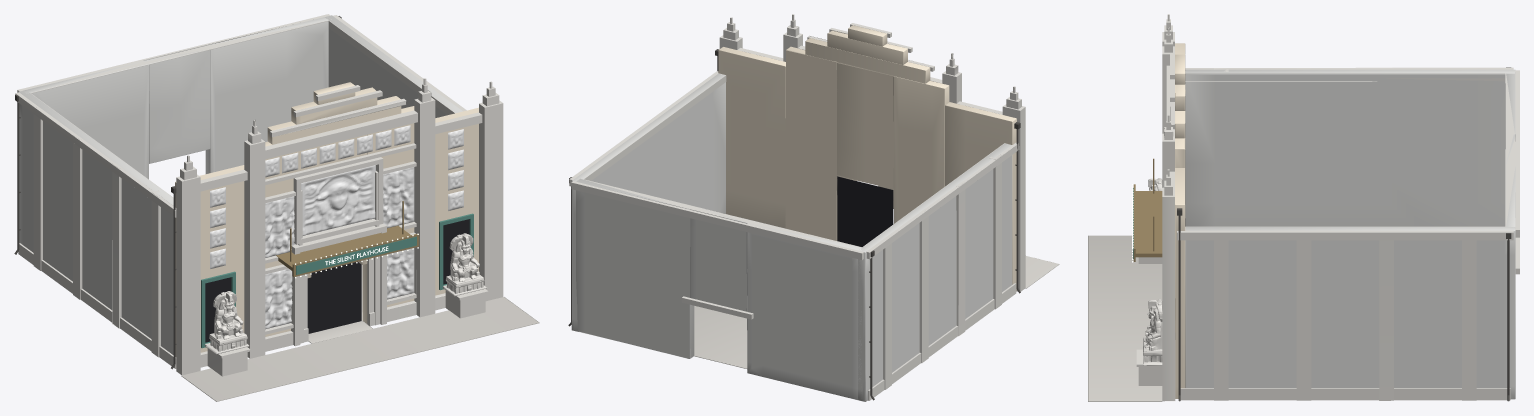
The model's file is mayan-theatre.glb.
3 renders of one model, left to right at view 1: azimuth 30°, elevation 25°; view 2: azimuth 150°, elevation 25°; view 3: azimuth 270°, elevation 25°, orthographic. The views are drawn at different scales.
Parts seen in each view (by area): view 1: theatre_carved, theatre_brick, theatre_ashlar, theatre_floor, merged_relief_guardian-panel, theatre_shadow, merged_relief_mask, relief_sun, merged_old_sandstone_02, theatre_jade, theatre_bronze, detail_old_pipe; view 2: theatre_brick, theatre_ashlar, theatre_carved, theatre_floor, theatre_shadow, detail_old_pipe; view 3: theatre_brick, theatre_carved, theatre_floor, theatre_ashlar, theatre_bronze, merged_old_sandstone_02, detail_old_pipe.
Part boxes in pixels (bbox=[...]): theatre_carved: bbox=[15, 14, 503, 376]; theatre_brick: bbox=[18, 15, 462, 354]; theatre_ashlar: bbox=[175, 82, 478, 356]; theatre_floor: bbox=[181, 265, 539, 401]; merged_relief_guardian-panel: bbox=[265, 167, 414, 329]; theatre_shadow: bbox=[205, 219, 469, 342]; merged_relief_mask: bbox=[210, 125, 463, 268]; relief_sun: bbox=[301, 165, 375, 235]; merged_old_sandstone_02: bbox=[206, 233, 486, 354]; theatre_jade: bbox=[201, 213, 473, 348]; theatre_bronze: bbox=[276, 201, 419, 277]; detail_old_pipe: bbox=[14, 16, 341, 369]; theatre_brick: bbox=[571, 73, 1012, 401]; theatre_ashlar: bbox=[718, 25, 1016, 291]; theatre_carved: bbox=[569, 14, 1025, 400]; theatre_floor: bbox=[694, 223, 1059, 368]; theatre_shadow: bbox=[837, 176, 893, 246]; detail_old_pipe: bbox=[568, 49, 1020, 400]; theatre_brick: bbox=[1185, 69, 1515, 399]; theatre_carved: bbox=[1136, 14, 1519, 401]; theatre_floor: bbox=[1088, 235, 1162, 401]; theatre_ashlar: bbox=[1175, 43, 1185, 398]; theatre_bronze: bbox=[1133, 158, 1162, 261]; merged_old_sandstone_02: bbox=[1143, 178, 1162, 365]; detail_old_pipe: bbox=[1177, 67, 1511, 401].
Bounding box in the file's own units: 19.27 × 13.63 × 20.9.
